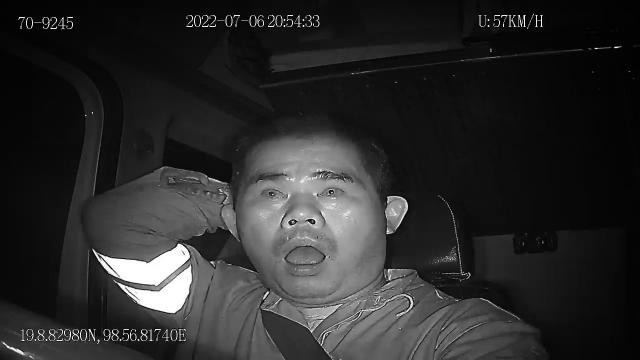SafeDriving: (309, 174, 351, 206), (254, 178, 294, 206)
Seatbelt: (258, 305, 334, 360)
